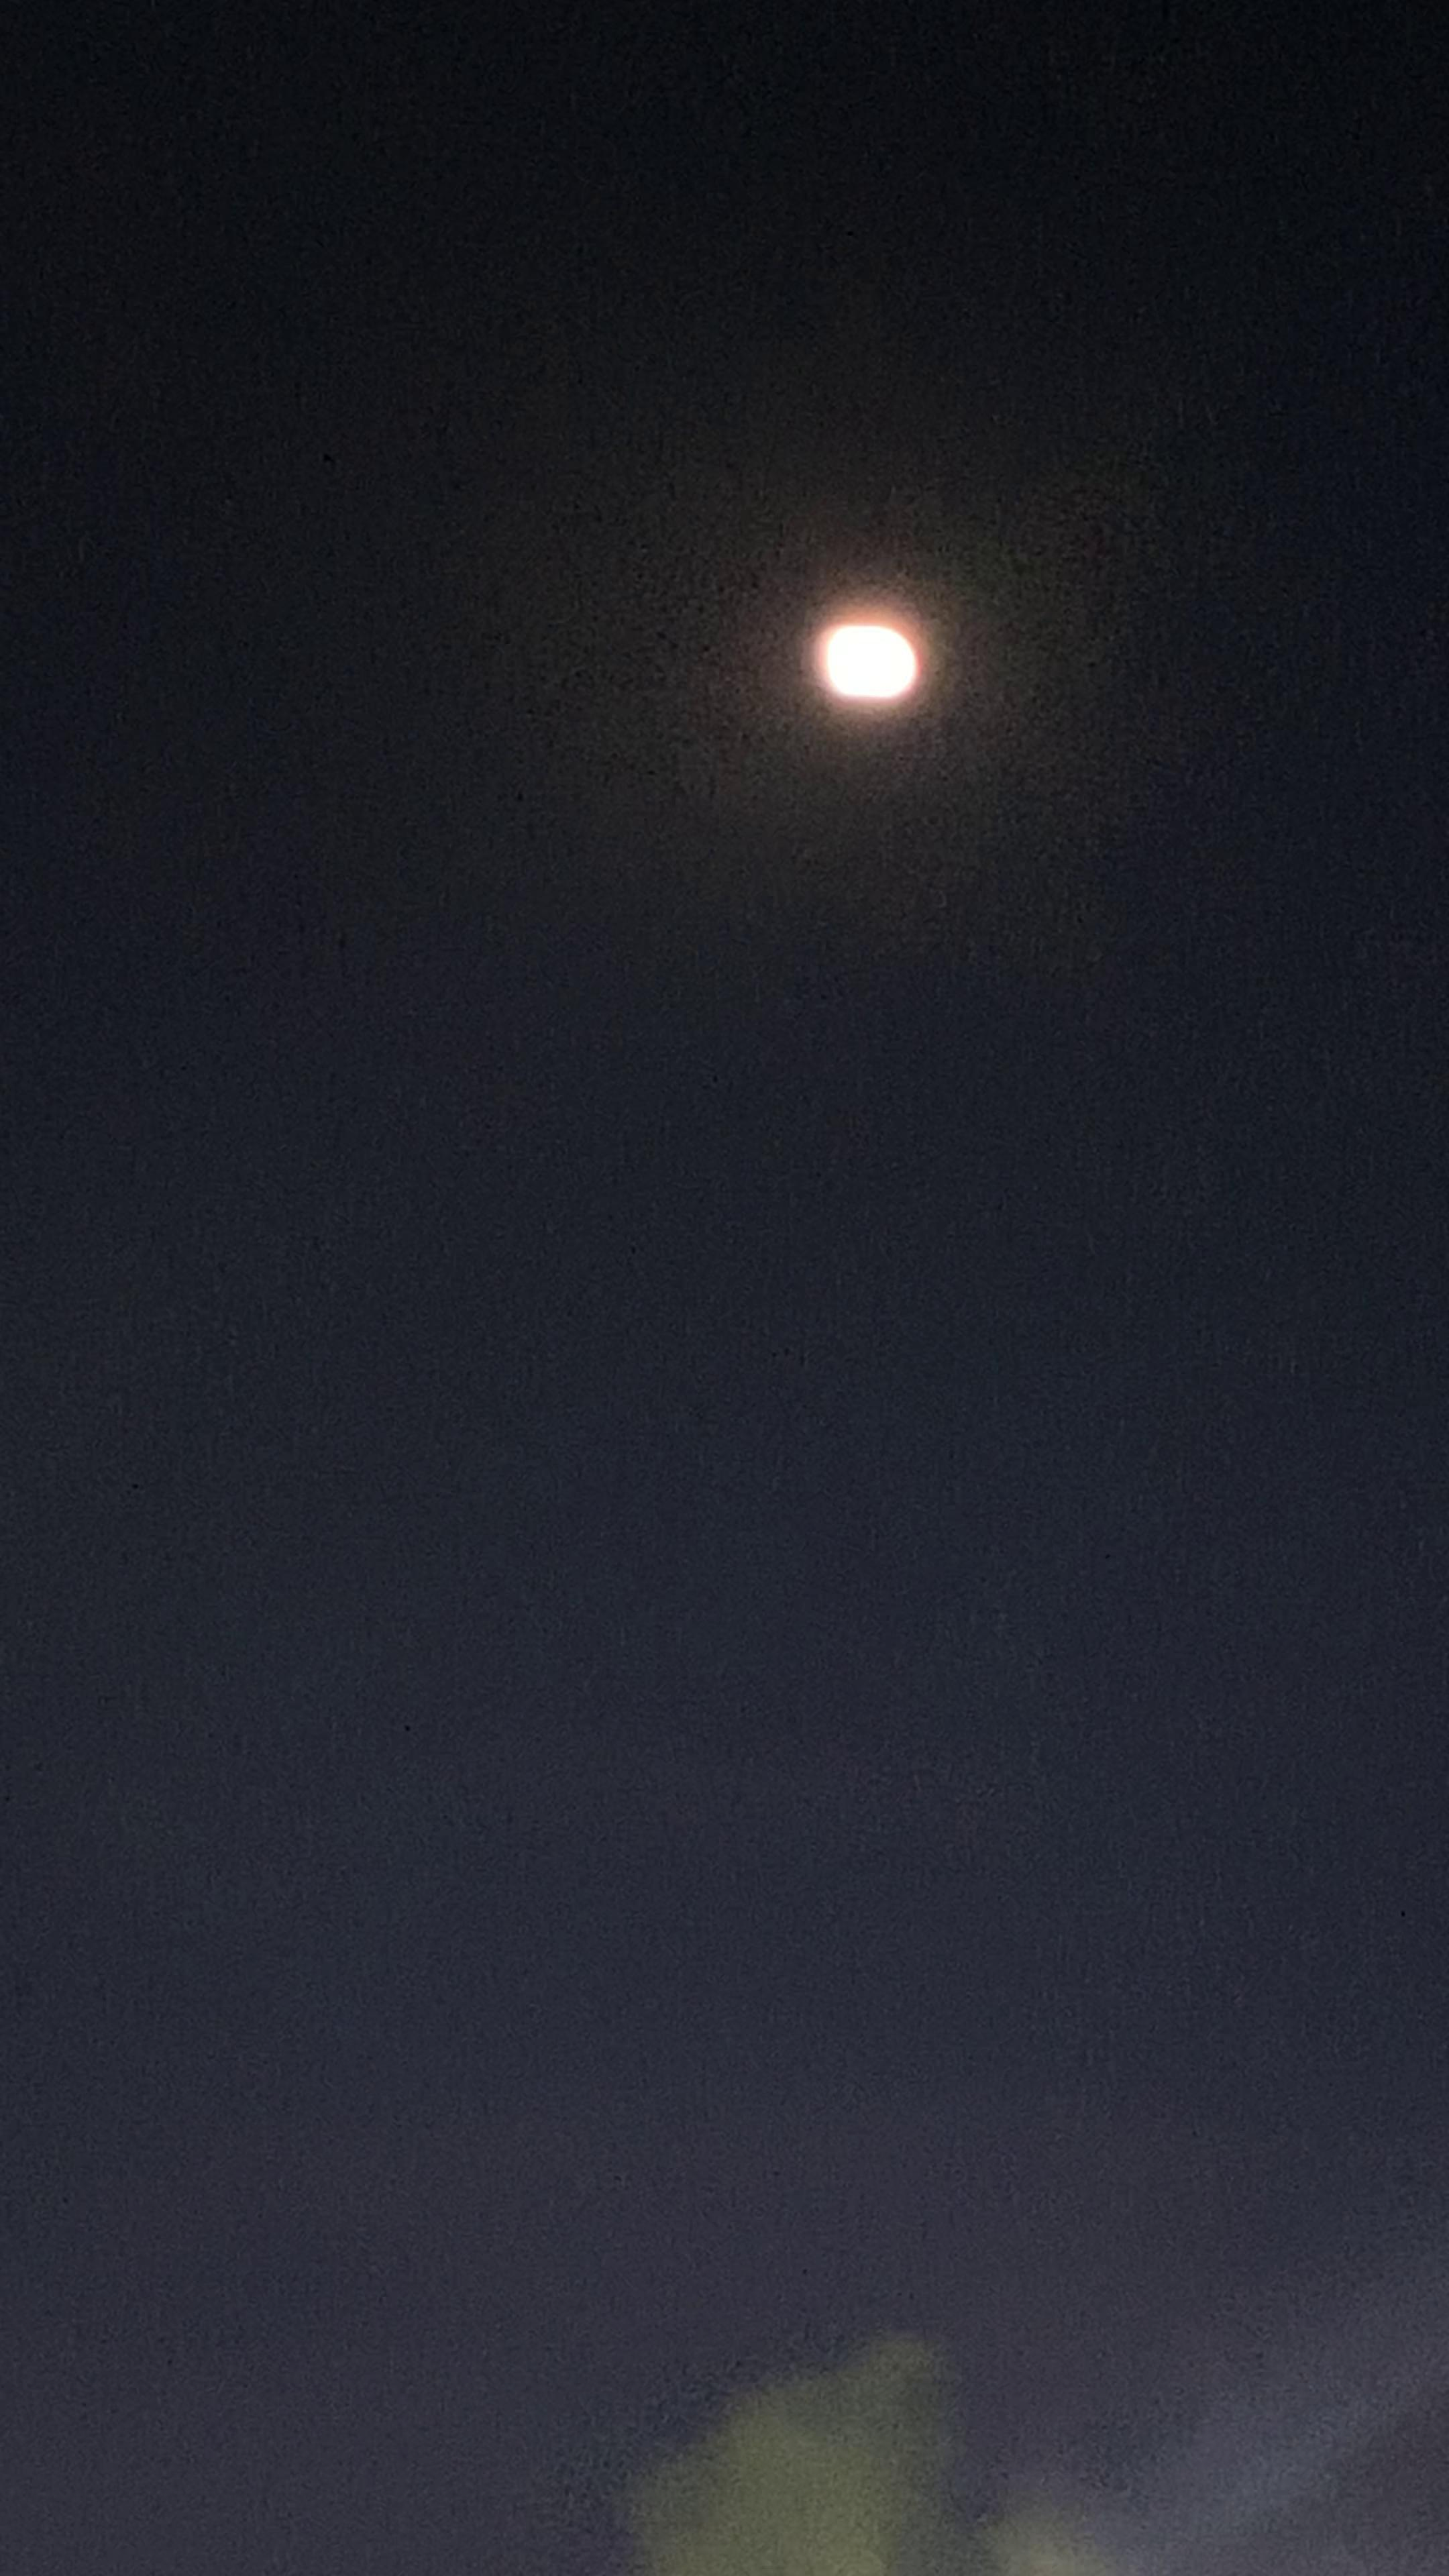moon: (791, 591, 950, 736)
